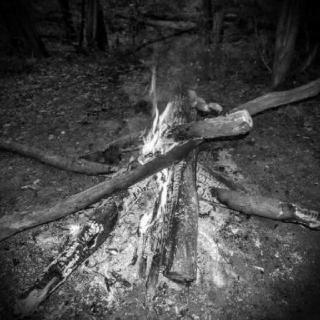Fire: (123, 56, 189, 240)
